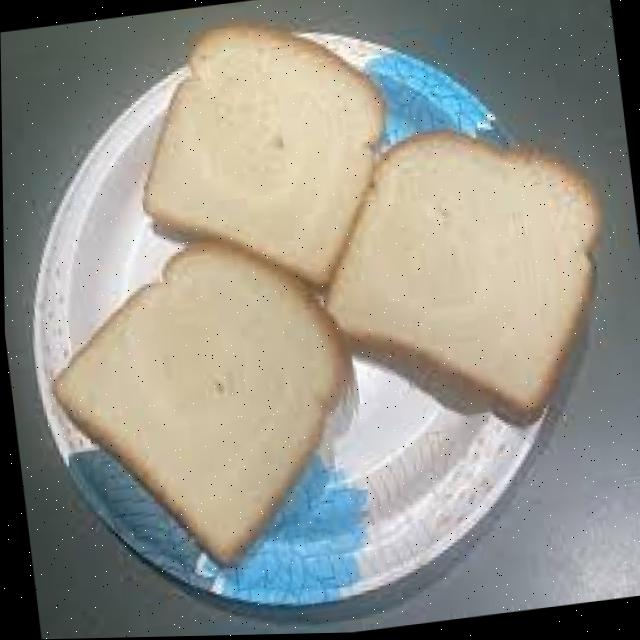Bread: (52, 242, 350, 562), (326, 132, 597, 423), (145, 29, 380, 285)
